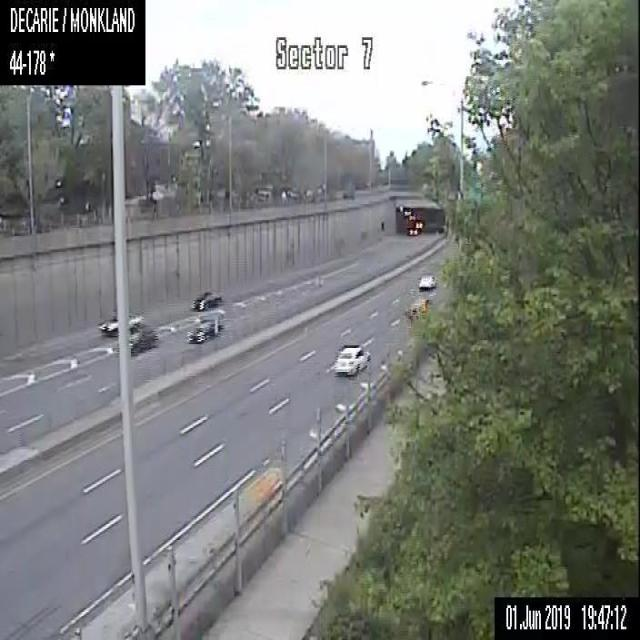vehicle: (333, 343, 370, 376), (99, 312, 143, 335), (188, 318, 220, 342), (191, 290, 221, 310), (132, 329, 156, 352), (416, 273, 436, 288), (405, 298, 422, 314), (414, 220, 423, 228), (407, 228, 417, 235)
